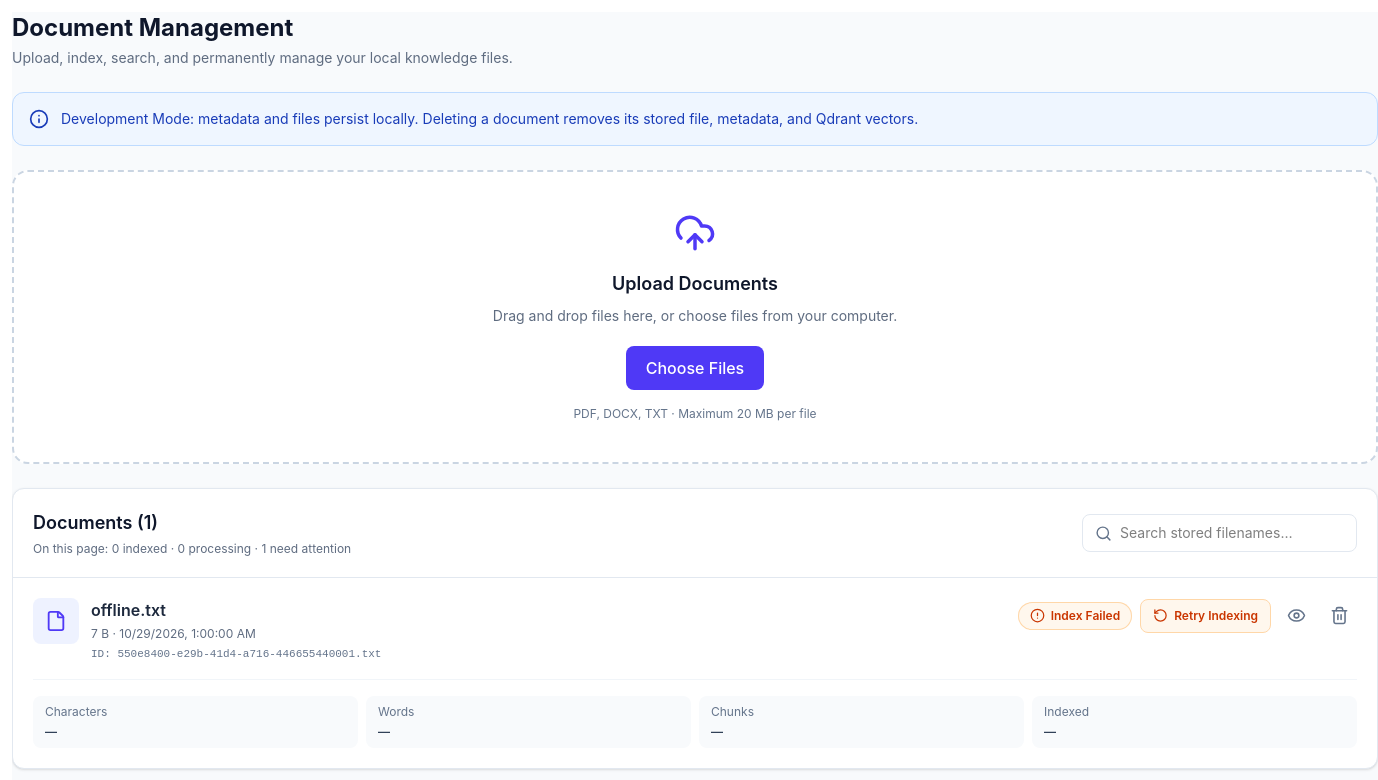
Scenario: Documents preferences › shows a retry error and allows another attempt
Click the button with aria-label "Retry indexing offline.txt".
click(1206, 616)  # box left=1140, top=598, right=1271, bottom=632
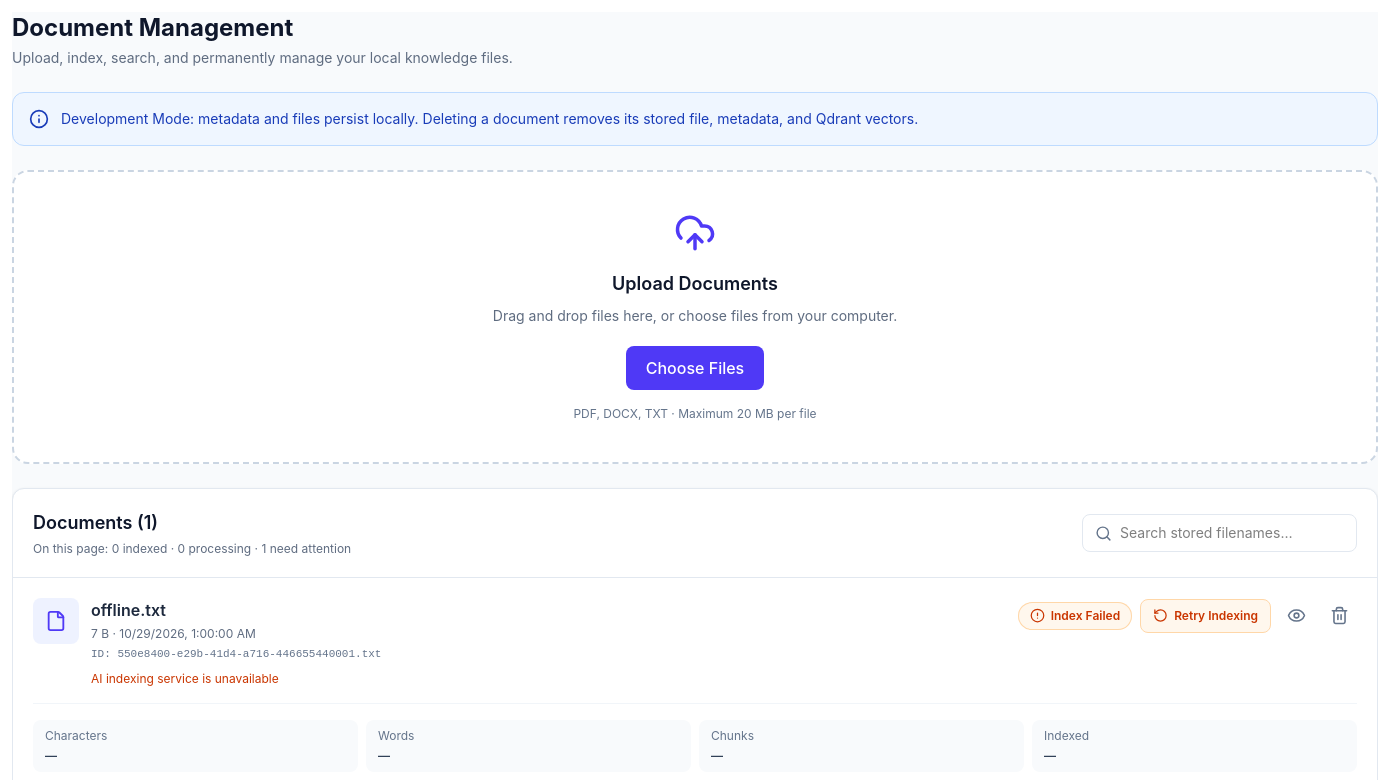
Expected: the text "Index Failed" is shown, left=1018, top=602, right=1132, bottom=630
Expected: the text "AI indexing service is unavailable" is shown, left=91, top=670, right=279, bottom=686
